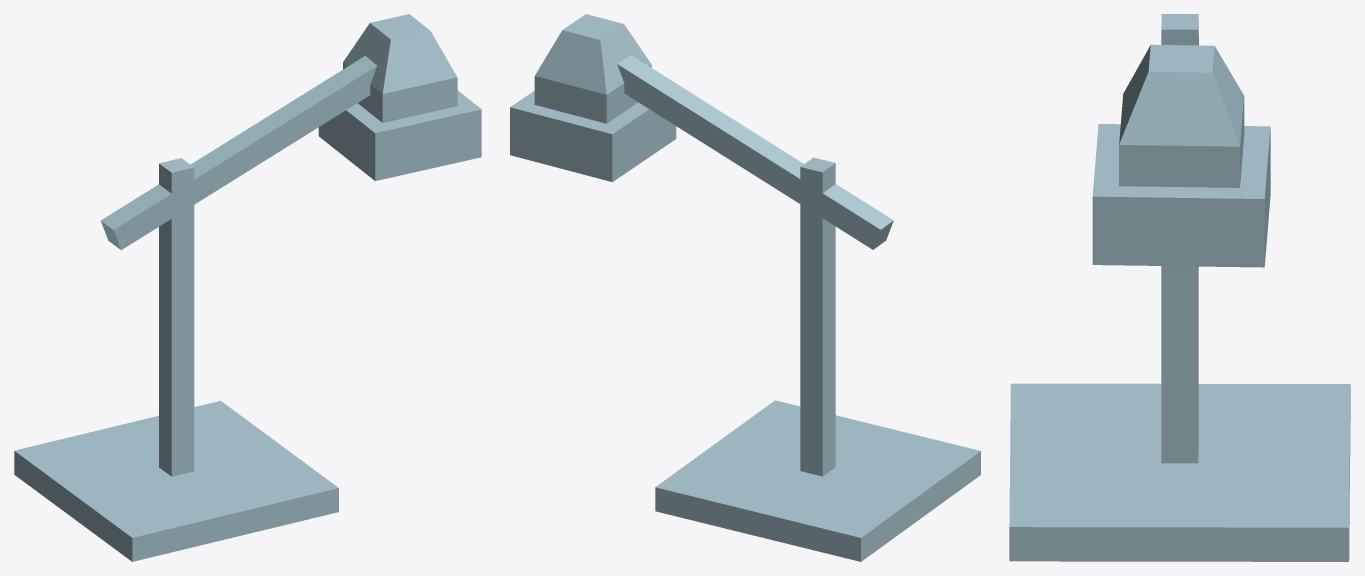
Rendered from Lamp.fbx.
3 views of the same model, side by side, from view 1: azimuth 30°, elevation 25°; view 2: azimuth 150°, elevation 25°; view 3: azimuth 270°, elevation 25° (orthographic). The views are drawn at different scales.
Parts seen in each view (by area): view 1: Lamp.001; view 2: Lamp.001; view 3: Lamp.001.
Boxes of the visible parts, <box> form: Lamp.001: <box>14,14,481,561</box>; Lamp.001: <box>510,14,980,561</box>; Lamp.001: <box>1009,14,1350,561</box>.
Size of the model in its own units: 0.4825 by 0.4971 by 0.2617.
